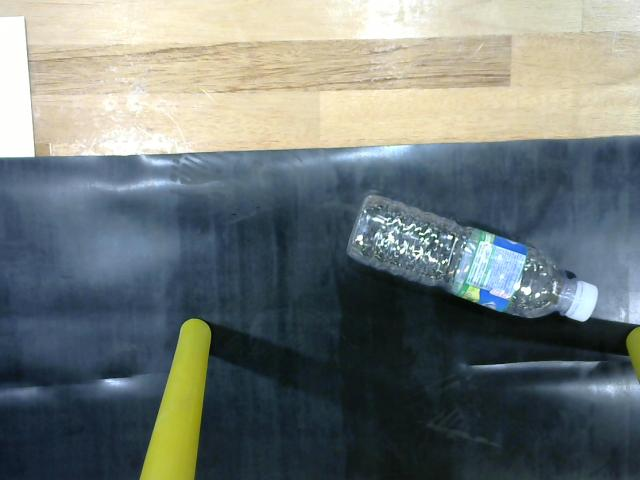bottle: (336, 183, 608, 328)
